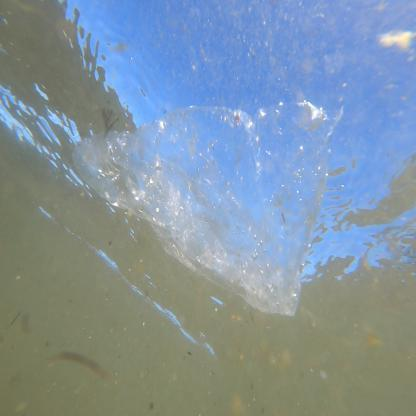Rác: (76, 94, 348, 310)
